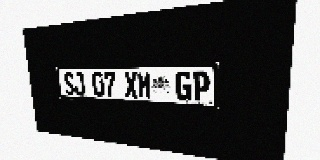0: (92, 72, 105, 96)
7: (103, 72, 117, 97)
G: (176, 71, 192, 101)
J: (73, 72, 85, 96)
M: (137, 72, 152, 99)
P: (192, 71, 210, 102)
S: (63, 72, 75, 95)
X: (124, 72, 138, 98)
